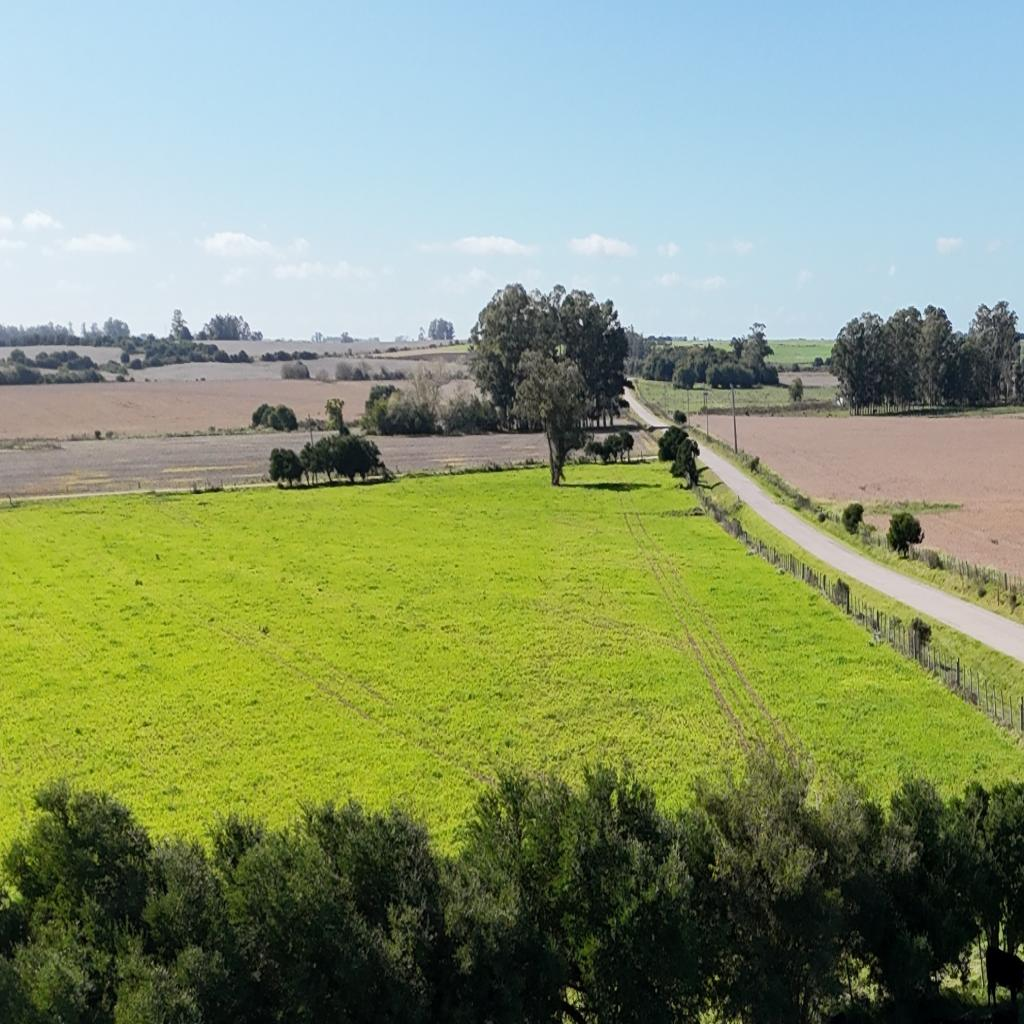cow: (984, 940, 1024, 1007)
